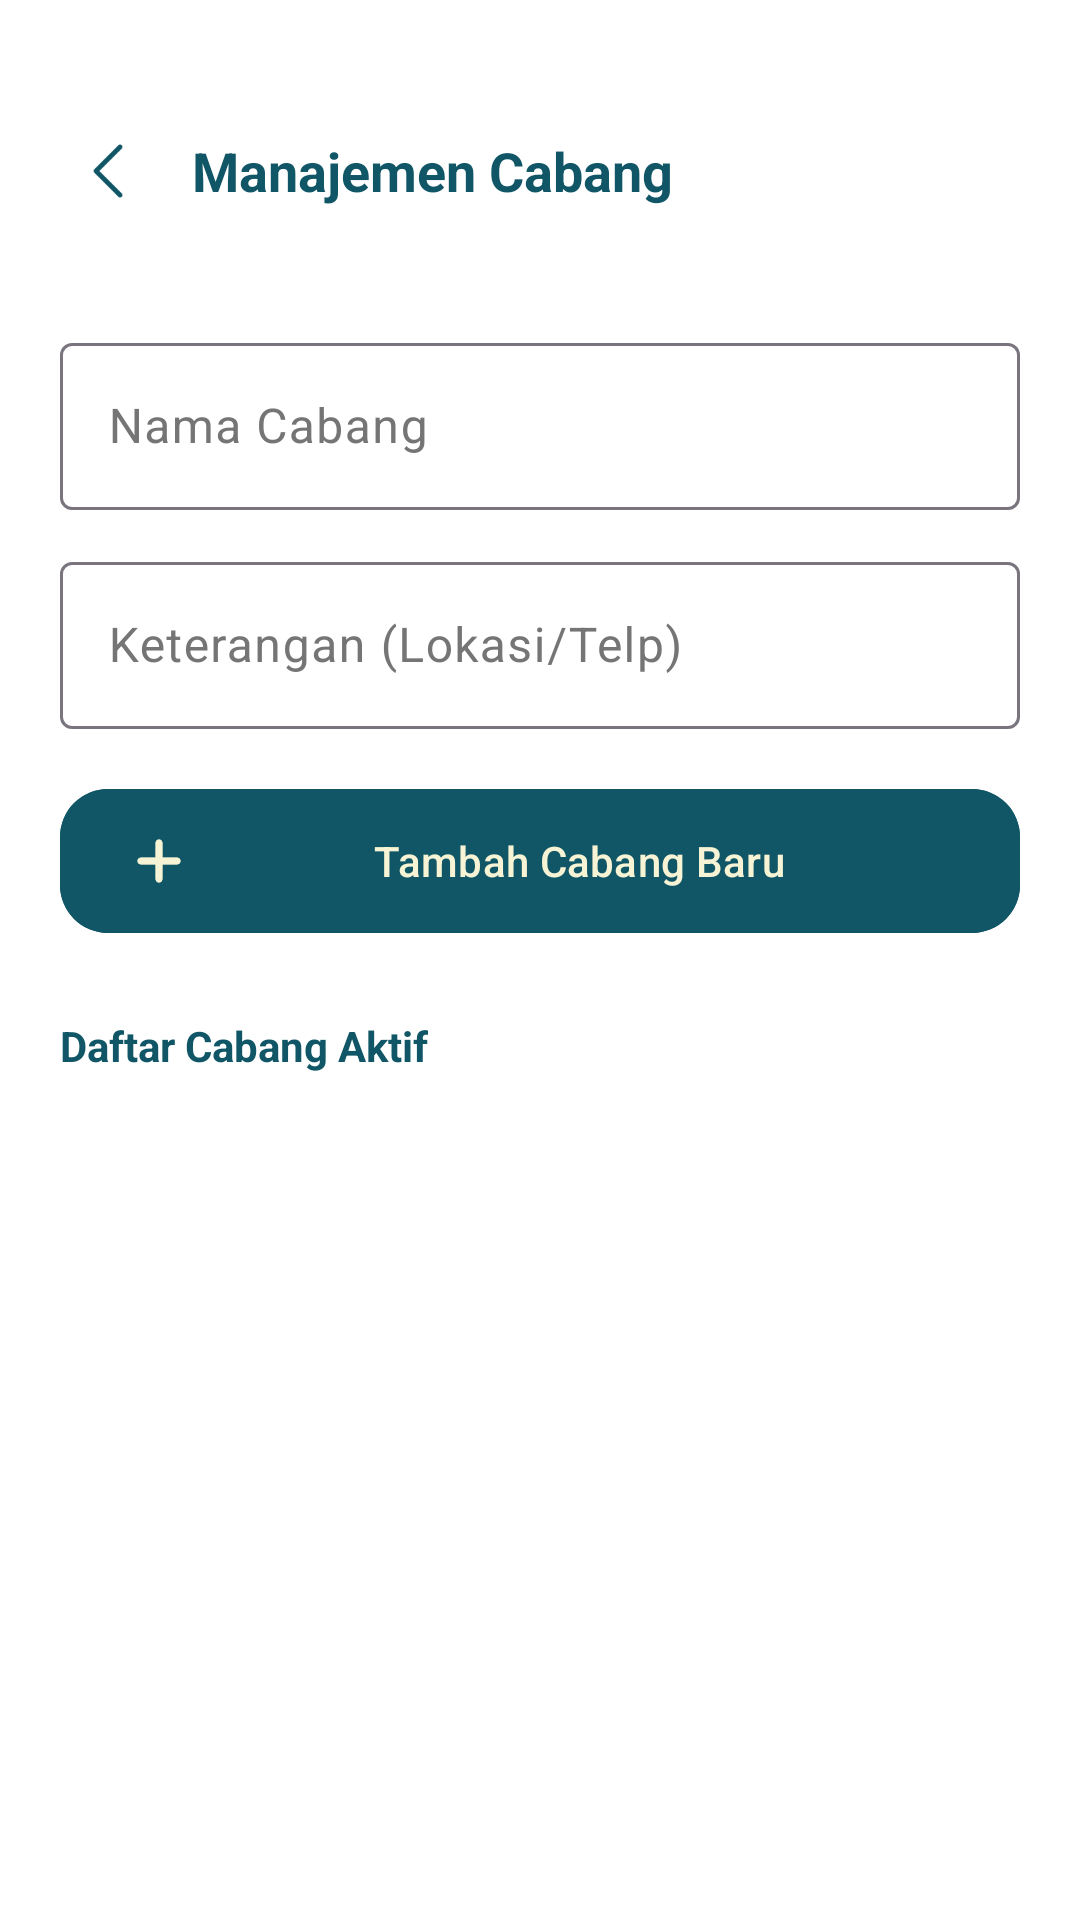

Icon click points for this 1080 x 1920 phone screenshot, format point (x, y):
back: point (108, 171)
